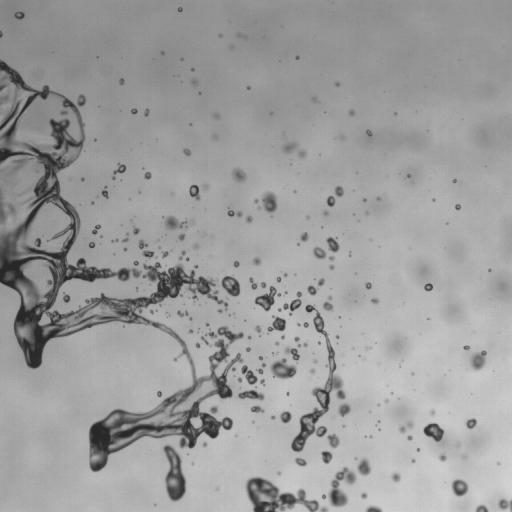droplet: (253, 191, 277, 213), (422, 422, 444, 442), (282, 141, 306, 159), (266, 315, 286, 335), (469, 350, 487, 370), (451, 478, 469, 496), (357, 456, 371, 475), (231, 167, 247, 182), (337, 401, 351, 417), (326, 236, 339, 253), (326, 433, 339, 448), (188, 184, 200, 200), (296, 232, 309, 246), (312, 246, 326, 259), (497, 498, 511, 511), (322, 295, 333, 311), (279, 410, 292, 423), (227, 206, 242, 217), (464, 417, 477, 429), (321, 450, 332, 464), (250, 405, 265, 414), (390, 471, 401, 482), (1, 101, 12, 112), (55, 168, 66, 179), (58, 187, 69, 198), (17, 208, 28, 219), (5, 219, 16, 230), (76, 227, 87, 238), (184, 227, 195, 238), (303, 239, 314, 250), (132, 248, 143, 259), (65, 253, 76, 264), (321, 269, 332, 280), (211, 271, 222, 282), (238, 280, 249, 291), (217, 288, 228, 299), (300, 293, 311, 304), (310, 295, 321, 306), (272, 296, 283, 307), (139, 306, 150, 317), (166, 317, 177, 328), (192, 317, 203, 328), (184, 334, 195, 345), (43, 339, 54, 350), (226, 343, 237, 354), (13, 347, 24, 358), (293, 359, 304, 370), (247, 360, 258, 371), (198, 365, 209, 376), (318, 368, 329, 379), (225, 376, 236, 387), (230, 382, 241, 393), (328, 395, 339, 406), (308, 398, 319, 409), (198, 401, 209, 412), (125, 402, 136, 413), (139, 402, 150, 413), (289, 423, 300, 434), (412, 425, 423, 436), (79, 433, 90, 444), (139, 434, 150, 445), (168, 434, 179, 445), (305, 434, 316, 445), (318, 438, 329, 449), (177, 446, 188, 457), (80, 454, 91, 465), (328, 460, 339, 471), (159, 461, 170, 472), (347, 461, 358, 472), (180, 465, 191, 476), (337, 480, 348, 491), (320, 497, 331, 508), (294, 457, 307, 466), (243, 501, 254, 511), (334, 185, 343, 197), (326, 195, 335, 207), (249, 277, 258, 289), (475, 504, 489, 511), (62, 292, 70, 303), (438, 452, 447, 461), (284, 134, 293, 143), (288, 150, 297, 159), (4, 156, 13, 165), (227, 176, 236, 185), (255, 190, 264, 199), (164, 208, 173, 217), (158, 223, 167, 232), (130, 234, 139, 243), (178, 240, 187, 249), (320, 241, 329, 250), (138, 255, 147, 264), (146, 256, 155, 265), (124, 260, 133, 269), (266, 277, 275, 286), (274, 282, 283, 291), (367, 288, 376, 297), (226, 294, 235, 303), (314, 302, 323, 311), (10, 304, 19, 313), (319, 308, 328, 317), (279, 309, 288, 318), (178, 329, 187, 338), (307, 340, 316, 349), (186, 343, 195, 352), (470, 345, 479, 354), (464, 349, 473, 358), (265, 356, 274, 365), (285, 357, 294, 366), (263, 367, 272, 376), (468, 367, 477, 376), (183, 378, 192, 387), (328, 389, 337, 398), (249, 397, 258, 406), (213, 412, 222, 421), (92, 413, 101, 422), (198, 432, 207, 441), (323, 484, 332, 493), (14, 11, 24, 19), (121, 232, 129, 242), (292, 504, 303, 511), (182, 148, 191, 156), (252, 257, 261, 265), (424, 283, 433, 291), (505, 490, 511, 501), (282, 505, 293, 511), (295, 505, 306, 511), (329, 505, 340, 511), (488, 505, 499, 511), (190, 78, 198, 86), (201, 183, 209, 191), (311, 96, 320, 103), (370, 297, 379, 304), (212, 112, 220, 119), (144, 171, 151, 179), (246, 215, 253, 223), (173, 0, 184, 5), (429, 408, 435, 417), (348, 109, 355, 116), (88, 241, 95, 248), (6, 60, 13, 67), (189, 71, 196, 78), (21, 74, 28, 81), (8, 81, 15, 88), (70, 96, 77, 103), (77, 105, 84, 112), (137, 107, 144, 114), (297, 143, 304, 150), (305, 150, 312, 157), (241, 166, 248, 173), (341, 185, 348, 192), (333, 195, 340, 202), (274, 197, 281, 204), (74, 205, 81, 212), (23, 208, 30, 215), (260, 208, 267, 215), (272, 208, 279, 215), (176, 215, 183, 222), (174, 227, 181, 234), (294, 231, 301, 238), (135, 232, 142, 239), (89, 234, 96, 241), (103, 234, 110, 241), (145, 244, 152, 251), (153, 249, 160, 256), (325, 249, 332, 256), (321, 256, 328, 263), (84, 260, 91, 267), (95, 262, 102, 269), (136, 263, 143, 270), (111, 265, 118, 272), (254, 277, 261, 284), (262, 287, 269, 294), (163, 295, 170, 302), (298, 304, 305, 311), (309, 310, 316, 317), (149, 314, 156, 321), (108, 320, 115, 327), (308, 323, 315, 330), (146, 324, 153, 331), (260, 325, 267, 332), (201, 326, 208, 333), (231, 327, 238, 334), (272, 328, 279, 335), (250, 330, 257, 337), (317, 333, 324, 340), (171, 338, 178, 345), (289, 341, 296, 348), (175, 344, 182, 351), (274, 354, 281, 361), (333, 354, 340, 361), (224, 355, 231, 362), (234, 361, 241, 368), (480, 364, 487, 371), (203, 368, 210, 375), (274, 376, 281, 383), (284, 376, 291, 383), (318, 381, 325, 388), (246, 383, 253, 390), (340, 384, 347, 391), (231, 388, 238, 395), (161, 391, 168, 398), (212, 393, 219, 400), (264, 409, 271, 416), (253, 411, 260, 418), (274, 416, 281, 423), (399, 418, 406, 425), (86, 419, 93, 426), (314, 420, 321, 427), (217, 426, 224, 433), (404, 428, 411, 435), (335, 431, 342, 438), (426, 435, 433, 442), (324, 444, 331, 451), (294, 450, 301, 457), (159, 451, 166, 458), (412, 451, 419, 458), (107, 452, 114, 459), (367, 461, 374, 468), (393, 466, 400, 473), (98, 467, 105, 474), (353, 470, 360, 477), (259, 472, 266, 479), (399, 473, 406, 480), (457, 473, 464, 480), (463, 476, 470, 483), (386, 477, 393, 484), (272, 479, 279, 486), (183, 481, 190, 488), (278, 487, 285, 494), (447, 488, 454, 495), (161, 489, 168, 496), (181, 492, 188, 499), (304, 493, 311, 500), (371, 500, 378, 507), (366, 129, 372, 137), (191, 243, 199, 249), (130, 108, 137, 114), (322, 209, 328, 216), (328, 255, 335, 261), (233, 260, 239, 267), (260, 281, 266, 288), (365, 282, 371, 289), (259, 379, 265, 386), (156, 390, 162, 397), (361, 492, 367, 499), (144, 108, 149, 116), (149, 309, 157, 314), (364, 346, 372, 351), (334, 81, 340, 87), (212, 134, 218, 140), (454, 204, 460, 210), (328, 264, 334, 270), (164, 311, 170, 317), (187, 327, 193, 333), (195, 342, 201, 348), (406, 435, 412, 441), (119, 78, 124, 85), (228, 312, 235, 317), (463, 345, 470, 350), (276, 276, 281, 282), (312, 358, 318, 363), (237, 377, 242, 383), (202, 441, 207, 447), (461, 454, 467, 459), (496, 507, 503, 511), (502, 507, 509, 511), (246, 85, 251, 90), (406, 173, 411, 178), (452, 178, 457, 183), (384, 398, 389, 403), (334, 76, 339, 81), (114, 78, 119, 83), (339, 81, 344, 86), (48, 85, 53, 90), (332, 85, 337, 90), (37, 86, 42, 91), (194, 86, 199, 91), (1, 87, 6, 92), (8, 93, 13, 98), (84, 94, 89, 99), (343, 110, 348, 115), (354, 110, 359, 115), (147, 111, 152, 116), (349, 115, 354, 120), (81, 117, 86, 122), (5, 122, 10, 127), (82, 125, 87, 130), (370, 128, 375, 133), (83, 129, 88, 134), (82, 140, 87, 145), (178, 145, 183, 150), (188, 146, 193, 151), (180, 152, 185, 157), (13, 154, 18, 159), (68, 163, 73, 168), (113, 164, 118, 169), (140, 169, 145, 174), (150, 173, 155, 178), (337, 181, 342, 186), (197, 185, 202, 190), (197, 190, 202, 195), (332, 193, 337, 198), (90, 195, 95, 200), (190, 196, 195, 201), (248, 198, 253, 203), (453, 199, 458, 204), (258, 200, 263, 205), (252, 202, 257, 207), (459, 202, 464, 207), (326, 205, 331, 210), (318, 212, 323, 217), (241, 213, 246, 218), (160, 218, 165, 223), (250, 219, 255, 224), (93, 220, 98, 225), (244, 221, 249, 226), (135, 223, 140, 228), (128, 229, 133, 234), (298, 229, 303, 234), (306, 231, 311, 236), (121, 233, 126, 238), (324, 233, 329, 238), (330, 233, 335, 238), (183, 235, 188, 240), (335, 238, 340, 243), (299, 240, 304, 245), (122, 241, 127, 246), (70, 243, 75, 248), (142, 246, 147, 251), (161, 246, 166, 251), (336, 248, 341, 253), (176, 250, 181, 255), (250, 253, 255, 258), (181, 254, 186, 259), (258, 255, 263, 260), (248, 257, 253, 262), (317, 257, 322, 262), (327, 259, 332, 264), (253, 264, 258, 269), (333, 265, 338, 270), (157, 267, 162, 272), (142, 268, 147, 273), (328, 269, 333, 274), (226, 271, 231, 276), (278, 272, 283, 277), (218, 274, 223, 279), (315, 275, 320, 280), (280, 276, 285, 281), (322, 281, 327, 286), (312, 282, 317, 287), (256, 283, 261, 288), (209, 285, 214, 290), (328, 290, 333, 295), (188, 291, 193, 296), (195, 291, 200, 296), (202, 293, 207, 298), (175, 294, 180, 299), (235, 294, 240, 299), (272, 294, 277, 299), (292, 294, 297, 299), (250, 296, 255, 301), (211, 299, 216, 304), (328, 299, 333, 304), (368, 301, 373, 306), (147, 303, 152, 308), (219, 303, 224, 308), (256, 304, 261, 309), (269, 304, 274, 309), (179, 307, 184, 312), (285, 307, 290, 312), (293, 308, 298, 313), (221, 310, 226, 315), (187, 311, 192, 316), (183, 315, 188, 320), (219, 321, 224, 326), (251, 321, 256, 326), (124, 322, 129, 327), (129, 322, 134, 327), (284, 322, 289, 327), (96, 323, 101, 328), (91, 324, 96, 329), (152, 326, 157, 331), (84, 327, 89, 332), (192, 327, 197, 332), (212, 328, 217, 333), (76, 330, 81, 335), (73, 331, 78, 336), (316, 331, 321, 336), (68, 333, 73, 338), (242, 333, 247, 338), (12, 337, 17, 342), (298, 338, 303, 343), (199, 340, 204, 345), (306, 340, 311, 345), (321, 341, 326, 346), (331, 344, 336, 349), (273, 345, 278, 350), (215, 346, 220, 351), (225, 347, 230, 352), (476, 348, 481, 353), (323, 350, 328, 355), (181, 353, 186, 358), (239, 353, 244, 358), (483, 354, 488, 359), (261, 357, 266, 362), (193, 361, 198, 366), (185, 362, 190, 367), (310, 362, 315, 367), (36, 365, 41, 370), (27, 366, 32, 371), (324, 367, 329, 372), (332, 369, 337, 374), (240, 373, 245, 378), (254, 380, 259, 385), (255, 388, 260, 393), (387, 394, 392, 399), (311, 395, 316, 400), (224, 396, 229, 401), (379, 400, 384, 405), (327, 402, 332, 407), (113, 404, 118, 409), (120, 405, 125, 410), (317, 405, 322, 410), (283, 406, 288, 411), (307, 408, 312, 413), (104, 410, 109, 415), (335, 412, 340, 417), (344, 412, 349, 417), (227, 413, 232, 418), (467, 414, 472, 419), (474, 415, 479, 420), (429, 418, 434, 423), (280, 421, 285, 426), (422, 421, 427, 426), (377, 422, 382, 427), (438, 423, 443, 428), (230, 424, 235, 429), (462, 424, 467, 429), (472, 425, 477, 430), (465, 427, 470, 432), (394, 428, 399, 433), (420, 432, 425, 437), (322, 433, 327, 438), (441, 433, 446, 438), (405, 439, 410, 444), (129, 442, 134, 447), (336, 443, 341, 448), (122, 446, 127, 451), (287, 446, 292, 451), (118, 448, 123, 453), (444, 451, 449, 456), (317, 453, 322, 458), (435, 457, 440, 462), (444, 458, 449, 463), (328, 459, 333, 464), (439, 460, 444, 465), (299, 465, 304, 470), (86, 466, 91, 471), (337, 466, 342, 471), (330, 474, 335, 479), (395, 480, 400, 485), (359, 488, 364, 493), (356, 493, 361, 498), (459, 494, 464, 499), (498, 494, 503, 499), (505, 496, 510, 501), (485, 504, 490, 509), (471, 505, 476, 510), (245, 347, 251, 351), (0, 128, 3, 135), (0, 281, 3, 288), (178, 7, 182, 12), (229, 44, 233, 49), (376, 197, 381, 201), (193, 264, 198, 268), (247, 334, 251, 339), (281, 334, 285, 339), (274, 341, 279, 345), (270, 415, 275, 419), (456, 442, 460, 447), (411, 458, 415, 463), (276, 471, 281, 475), (215, 486, 219, 491), (218, 33, 222, 37), (160, 51, 164, 55), (295, 55, 299, 59), (190, 67, 194, 71), (80, 177, 84, 181), (365, 211, 369, 215), (306, 215, 310, 219), (155, 238, 159, 242), (123, 247, 127, 251), (283, 273, 287, 277), (296, 322, 300, 326), (317, 341, 321, 345), (258, 356, 262, 360), (416, 447, 420, 451), (354, 456, 358, 460), (190, 461, 194, 465), (496, 461, 500, 465), (336, 334, 339, 339), (286, 391, 289, 396), (390, 390, 393, 395), (180, 57, 183, 61), (198, 91, 201, 95), (269, 111, 273, 114), (138, 190, 141, 194), (293, 190, 297, 193), (170, 192, 174, 195), (363, 198, 366, 202), (432, 198, 435, 202), (445, 221, 448, 225), (488, 268, 491, 272), (357, 354, 361, 357), (251, 420, 255, 423), (394, 112, 397, 115), (189, 123, 192, 126), (91, 201, 94, 204), (270, 215, 273, 218), (357, 219, 360, 222), (100, 235, 103, 238), (354, 272, 357, 275), (243, 319, 246, 322), (411, 372, 414, 375), (377, 403, 380, 406), (368, 410, 371, 413), (377, 420, 380, 423), (342, 424, 345, 427), (378, 428, 381, 431), (234, 434, 237, 437), (186, 452, 189, 455), (153, 503, 156, 506), (174, 8, 177, 11), (21, 9, 24, 12), (12, 10, 15, 13), (177, 11, 180, 14), (21, 17, 24, 20), (1, 34, 4, 37), (160, 47, 163, 50), (163, 50, 166, 53), (95, 52, 98, 55), (295, 52, 298, 55), (158, 53, 161, 56), (298, 55, 301, 58), (292, 56, 295, 59), (183, 57, 186, 60), (295, 59, 298, 62), (191, 64, 194, 67), (189, 70, 192, 73), (117, 76, 120, 79), (122, 76, 125, 79), (244, 83, 247, 86), (248, 83, 251, 86), (119, 84, 122, 87), (198, 88, 201, 91), (246, 89, 249, 92), (59, 91, 62, 94), (195, 91, 198, 94), (133, 105, 136, 108), (146, 105, 149, 108), (393, 108, 396, 111), (390, 111, 393, 114), (132, 113, 135, 116), (145, 115, 148, 118), (188, 119, 191, 122), (191, 122, 194, 125), (188, 125, 191, 128), (363, 128, 366, 131), (364, 133, 367, 136), (371, 134, 374, 137), (96, 138, 99, 141), (119, 161, 122, 164), (124, 163, 127, 166), (110, 170, 113, 173), (407, 170, 410, 173), (116, 171, 119, 174), (122, 171, 125, 174), (404, 171, 407, 174), (80, 174, 83, 177), (108, 176, 111, 179), (405, 176, 408, 179), (451, 176, 454, 179), (148, 177, 151, 180), (83, 178, 86, 181), (144, 178, 147, 181), (78, 179, 81, 182), (111, 179, 114, 182), (456, 179, 459, 182), (453, 182, 456, 185), (187, 184, 190, 187), (186, 187, 189, 190), (291, 187, 294, 190), (295, 187, 298, 190), (135, 191, 138, 194), (186, 191, 189, 194), (292, 192, 295, 195), (107, 193, 110, 196), (378, 194, 381, 197), (363, 195, 366, 198), (102, 196, 105, 199), (373, 196, 376, 199), (359, 197, 362, 200), (428, 198, 431, 201), (93, 199, 96, 202), (434, 199, 437, 202), (87, 201, 90, 204), (362, 201, 365, 204), (452, 203, 455, 206), (452, 207, 455, 210), (459, 207, 462, 210), (225, 208, 228, 211), (233, 213, 236, 216), (158, 215, 161, 218), (227, 215, 230, 218), (443, 219, 446, 222), (444, 224, 447, 227), (317, 225, 320, 228), (91, 226, 94, 229), (112, 237, 115, 240), (159, 237, 162, 240), (176, 237, 179, 240), (118, 238, 121, 241), (108, 240, 111, 243), (112, 241, 115, 244), (293, 242, 296, 245), (93, 245, 96, 248), (136, 246, 139, 249), (90, 247, 93, 250), (120, 248, 123, 251), (126, 248, 129, 251), (345, 252, 348, 255), (350, 252, 353, 255), (152, 253, 155, 256), (188, 257, 191, 260), (230, 261, 233, 264), (193, 262, 196, 265), (238, 262, 241, 265), (197, 264, 200, 267), (326, 266, 329, 269), (192, 267, 195, 270), (484, 268, 487, 271), (490, 268, 493, 271), (286, 274, 289, 277), (365, 279, 368, 282), (425, 280, 428, 283), (248, 282, 251, 285), (370, 282, 373, 285), (431, 283, 434, 286), (362, 284, 365, 287), (367, 288, 370, 291), (422, 288, 425, 291), (429, 289, 432, 292), (280, 291, 283, 294), (189, 297, 192, 300), (174, 309, 177, 312), (216, 311, 219, 314), (319, 313, 322, 316), (176, 314, 179, 317), (230, 314, 233, 317), (335, 315, 338, 318), (340, 315, 343, 318), (244, 316, 247, 319), (423, 316, 426, 319), (191, 318, 194, 321), (337, 318, 340, 321), (425, 319, 428, 322), (207, 320, 210, 323), (300, 322, 303, 325), (297, 334, 300, 337), (463, 342, 466, 345), (315, 343, 318, 346), (367, 343, 370, 346), (248, 344, 251, 347), (460, 346, 463, 349), (197, 347, 200, 350), (482, 347, 485, 350), (249, 349, 252, 352), (355, 352, 358, 355), (259, 353, 262, 356), (173, 354, 176, 357), (360, 355, 363, 358), (255, 356, 258, 359), (298, 356, 301, 359), (172, 360, 175, 363), (325, 360, 328, 363), (400, 362, 403, 365), (335, 363, 338, 366), (395, 363, 398, 366), (398, 367, 401, 370), (307, 372, 310, 375), (263, 380, 266, 383), (391, 388, 394, 391), (283, 391, 286, 394), (288, 391, 291, 394), (392, 392, 395, 395), (154, 394, 157, 397), (387, 401, 390, 404), (252, 411, 255, 414), (376, 416, 379, 419), (379, 418, 382, 421), (248, 420, 251, 423), (251, 423, 254, 426), (366, 435, 369, 438), (370, 437, 373, 440), (411, 437, 414, 440), (416, 444, 419, 447), (413, 447, 416, 450), (419, 447, 422, 450), (304, 458, 307, 461), (408, 458, 411, 461), (192, 459, 195, 462), (499, 460, 502, 463), (411, 462, 414, 465), (275, 468, 278, 471), (278, 468, 281, 471), (280, 472, 283, 475), (154, 500, 157, 503), (94, 138, 96, 141), (142, 167, 144, 170), (352, 213, 355, 215), (338, 316, 341, 318), (427, 317, 430, 319), (336, 342, 338, 345), (352, 346, 354, 349), (312, 352, 315, 354), (342, 363, 344, 366), (96, 56, 98, 58), (290, 163, 292, 165), (120, 179, 122, 181), (96, 196, 98, 198), (321, 226, 323, 228), (113, 253, 115, 255), (165, 264, 167, 266), (294, 273, 296, 275), (313, 278, 315, 280), (182, 303, 184, 305), (199, 304, 201, 306), (233, 375, 235, 377), (375, 424, 377, 426), (143, 289, 145, 290), (340, 325, 341, 327), (42, 235, 43, 236), (330, 288, 331, 289)
ligament: (290, 304, 346, 452), (269, 336, 308, 379), (162, 443, 187, 501), (253, 285, 287, 311), (277, 291, 302, 316), (307, 278, 324, 295), (110, 162, 126, 180), (397, 420, 415, 433), (177, 310, 192, 325), (129, 218, 140, 235), (91, 224, 101, 235), (365, 505, 383, 511), (101, 185, 108, 198), (254, 324, 261, 337), (308, 367, 315, 380), (237, 32, 247, 39), (335, 134, 346, 140), (399, 359, 404, 367), (111, 238, 118, 243), (364, 434, 372, 438), (271, 351, 278, 355), (348, 251, 351, 257), (135, 286, 138, 292), (0, 30, 2, 37), (197, 327, 199, 333), (375, 342, 376, 344)
